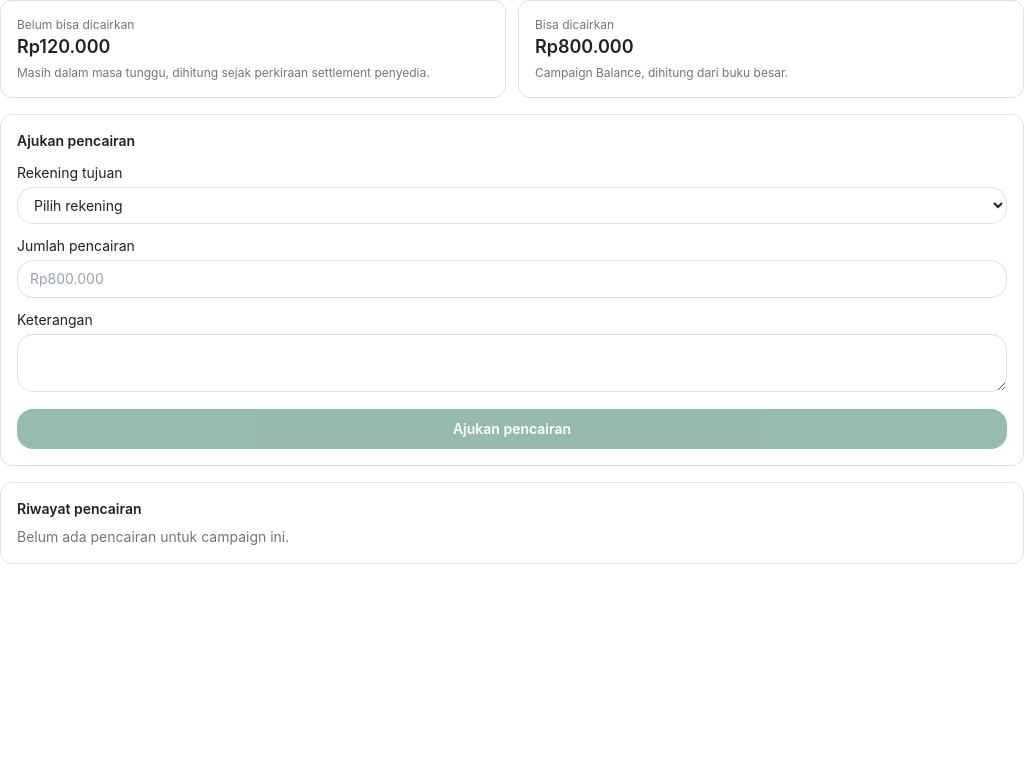
CampaignPayoutPanel › shows the server own refusal when a request is turned down, rather than a generic failure
This screenshot has width=1024, height=768.
Select "BCA - Creator One" in the dropdown labelled "Rekening tujuan": (512, 206) [17,187,1007,224]
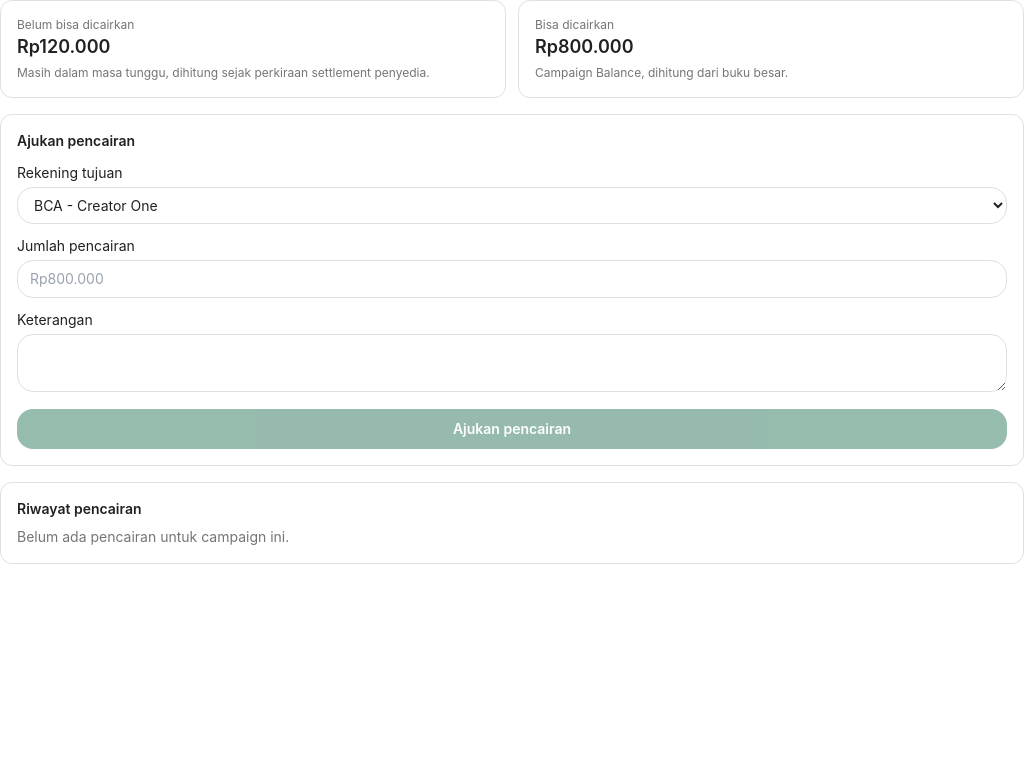
In the field labelled "Jumlah pencairan": (512, 279) [17,260,1007,298], type "300000"
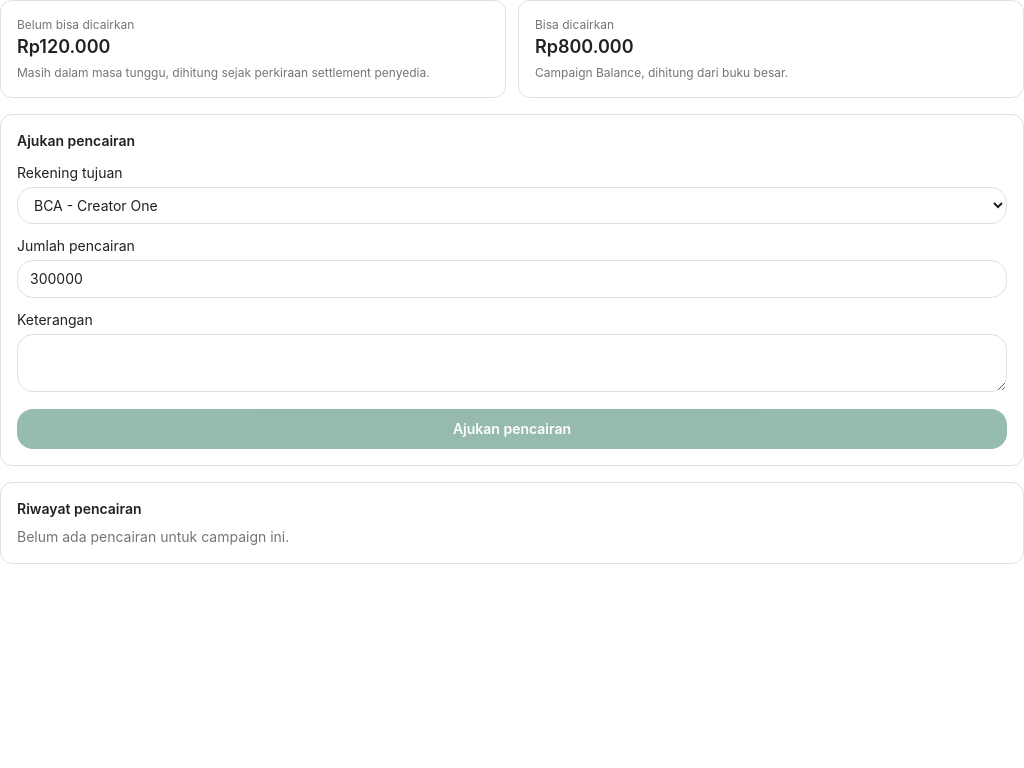
In the text box labelled "Keterangan": (512, 363) [17,334,1007,392], type "Bahan bangunan"
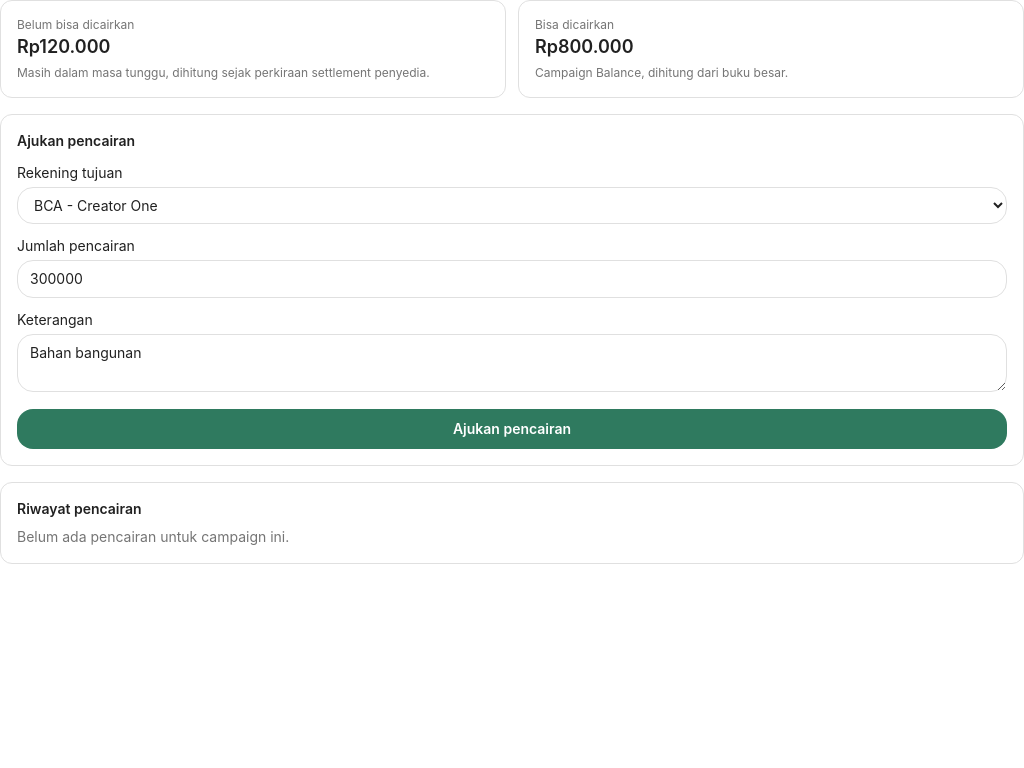
Click the button "Ajukan pencairan": (512, 429) [17,409,1007,449]
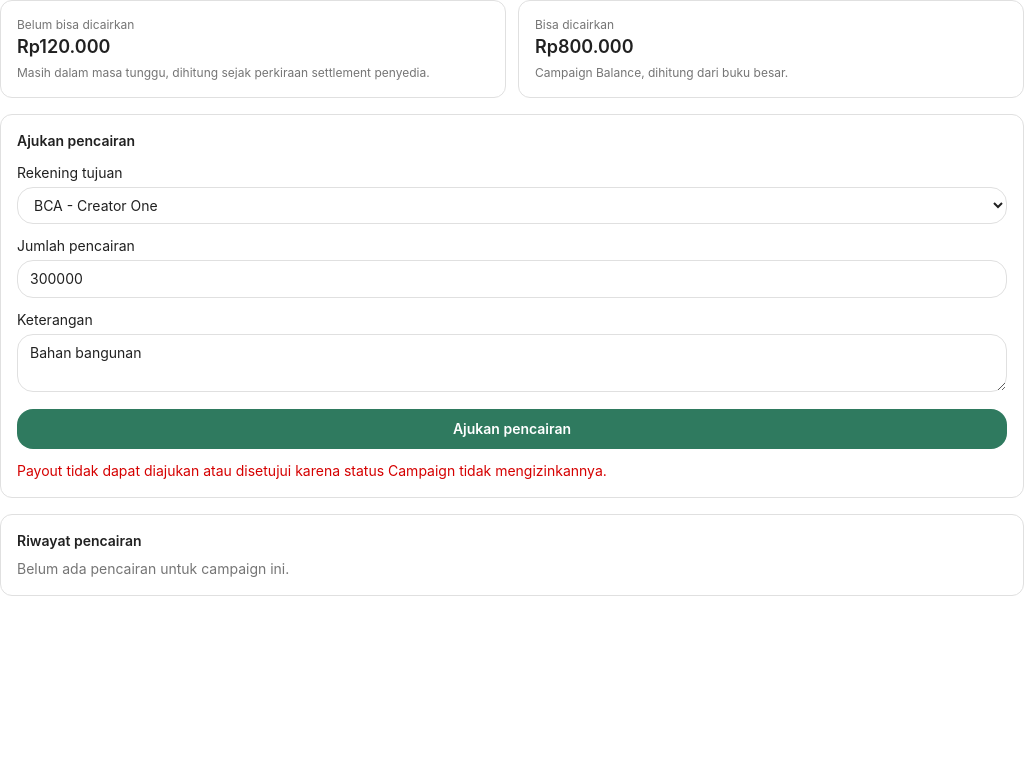
expect the message shows "status Campaign tidak mengizinkannya": met, box [17,462,607,479]
